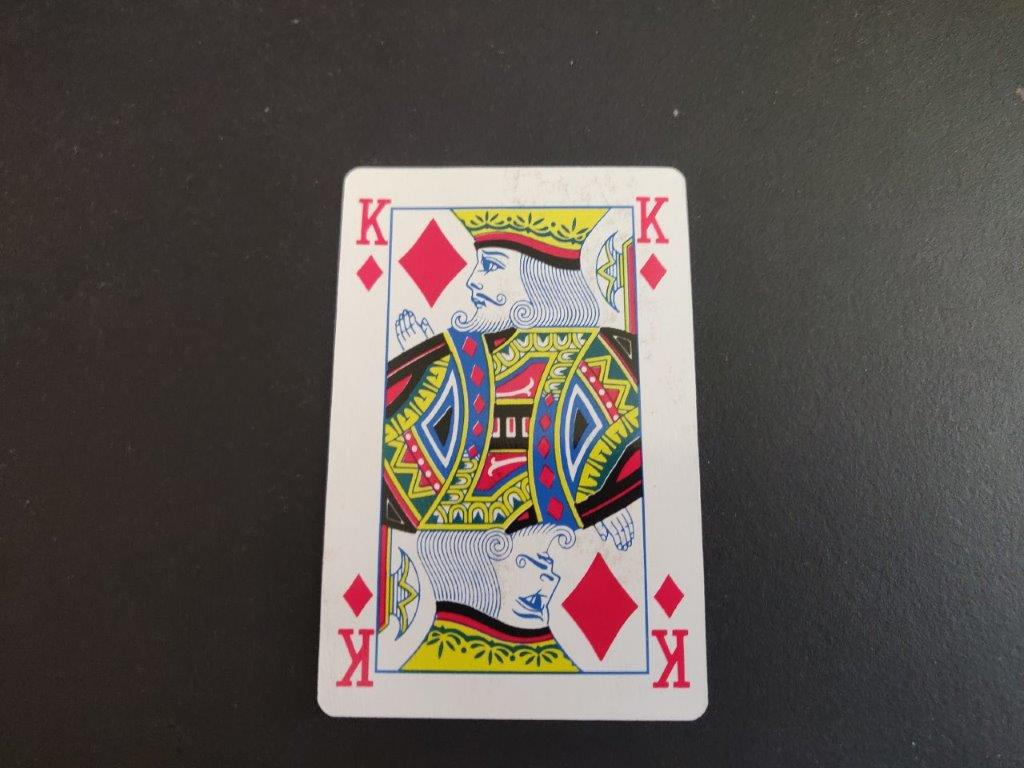KD: (632, 189, 677, 299), (350, 194, 395, 295)
